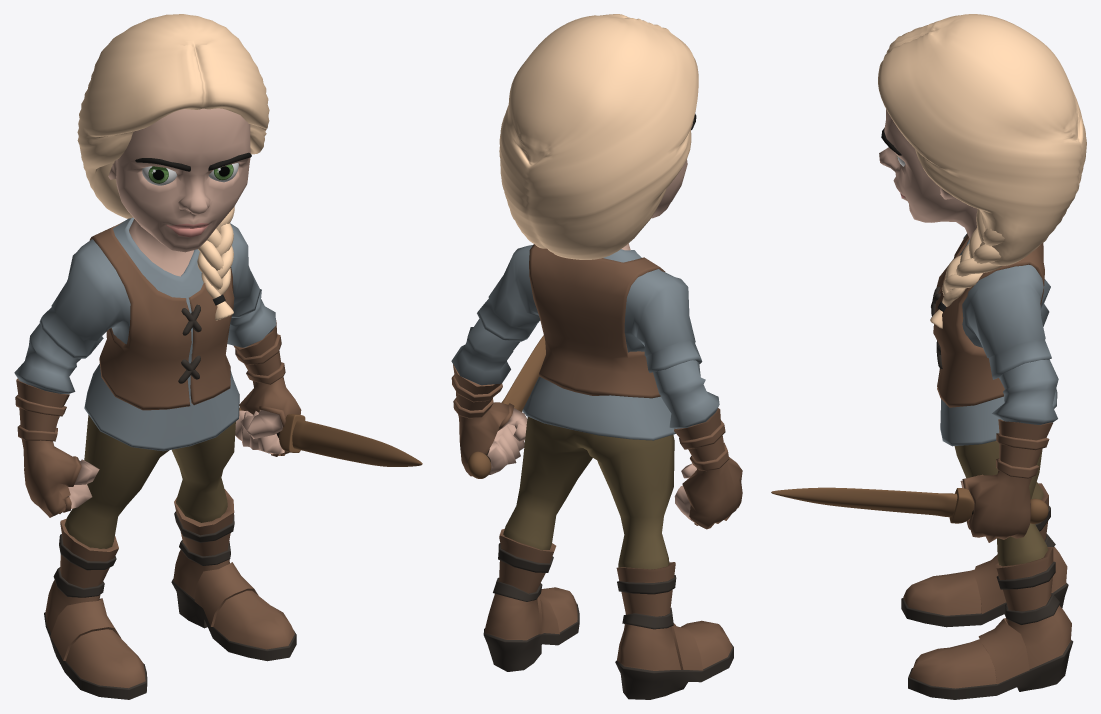
The model's file is ciri.gltf.
The picture shows the model from 3 angles, left to right: view 1: azimuth 30°, elevation 25°; view 2: azimuth 150°, elevation 25°; view 3: azimuth 270°, elevation 25°; orthographic projection.
Parts seen in each view (by area): view 1: Cubo_1.001, Esfera.1_1.001, Cubo.2_1.001, Cubo.003, Cubo.006, Cubo.1_3.001, Cubo.1_2.001, Cilindro.002, Esfera.005, Cubo.007; view 2: Esfera.1_1.001, Cubo_1.001, Cubo.2_1.001, Cubo.1_2.001, Cubo.006, Cubo.1_3.001, Cilindro.002, Esfera.005, Cubo.003; view 3: Esfera.1_1.001, Cubo_1.001, Cubo.2_1.001, Cubo.1_3.001, Cubo.006, Esfera.005, Cubo.003, Cilindro.002, Cubo.1_2.001, Toroide.004.
Boxes of the visible parts, x1=… form: Cubo_1.001: x1=44, y1=489, x2=296, y2=699; Esfera.1_1.001: x1=77, y1=14, x2=269, y2=218; Cubo.2_1.001: x1=39, y1=217, x2=260, y2=451; Cubo.003: x1=116, y1=108, x2=250, y2=276; Cubo.006: x1=89, y1=221, x2=234, y2=410; Cubo.1_3.001: x1=15, y1=320, x2=301, y2=517; Cubo.1_2.001: x1=64, y1=415, x2=235, y2=548; Cilindro.002: x1=14, y1=289, x2=276, y2=394; Esfera.005: x1=239, y1=407, x2=422, y2=466; Cubo.007: x1=178, y1=304, x2=201, y2=383; Esfera.1_1.001: x1=499, y1=14, x2=698, y2=259; Cubo_1.001: x1=483, y1=529, x2=733, y2=699; Cubo.2_1.001: x1=477, y1=245, x2=702, y2=440; Cubo.1_2.001: x1=503, y1=417, x2=674, y2=569; Cubo.006: x1=529, y1=244, x2=665, y2=398; Cubo.1_3.001: x1=451, y1=364, x2=742, y2=529; Cilindro.002: x1=451, y1=319, x2=719, y2=428; Esfera.005: x1=467, y1=335, x2=545, y2=478; Cubo.003: x1=621, y1=123, x2=692, y2=250; Esfera.1_1.001: x1=878, y1=14, x2=1086, y2=265; Cubo_1.001: x1=901, y1=483, x2=1073, y2=699; Cubo.2_1.001: x1=940, y1=233, x2=1057, y2=446; Cubo.1_3.001: x1=960, y1=419, x2=1052, y2=542; Cubo.006: x1=933, y1=234, x2=1044, y2=407; Esfera.005: x1=771, y1=487, x2=1048, y2=523; Cubo.003: x1=879, y1=109, x2=977, y2=239; Cilindro.002: x1=992, y1=279, x2=1058, y2=424; Cubo.1_2.001: x1=954, y1=441, x2=1048, y2=566; Toroide.004: x1=956, y1=258, x2=1002, y2=276.
Bounding box in the file's own units: 5.29 × 11.29 × 5.15.
13 materials, 1 textured.
